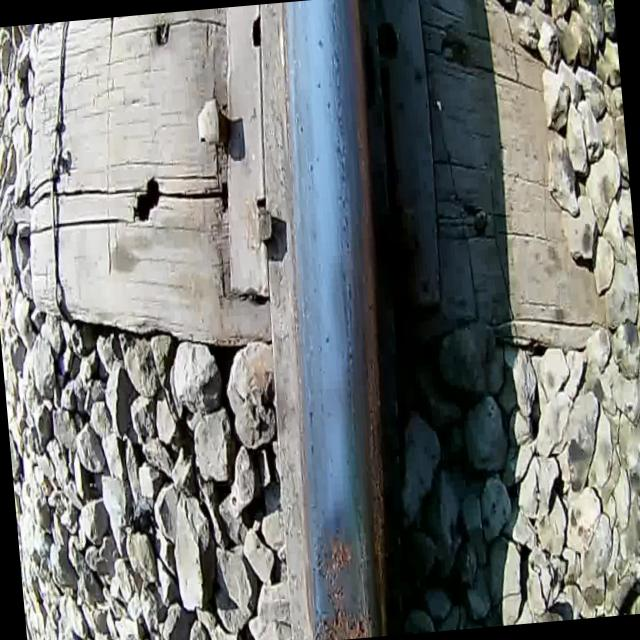Cracks: (347, 507, 380, 638)
Spallings: (312, 530, 356, 609), (305, 598, 368, 640)
Squats: (293, 485, 382, 640)
